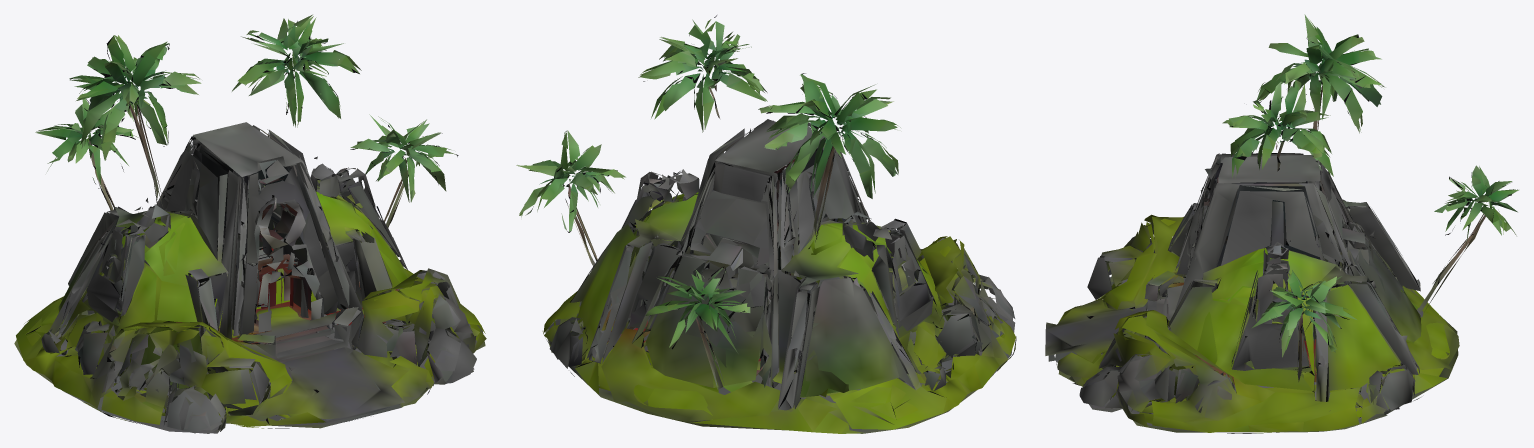
The model's file is pillio-observatory.lo.glb.
3 renders of one model, left to right at view 1: azimuth 30°, elevation 25°; view 2: azimuth 150°, elevation 25°; view 3: azimuth 270°, elevation 25°, orthographic. The views are drawn at different scales.
Visible parts, largest first — view 1: low; view 2: low; view 3: low.
Boxes of the visible parts, x1=… form: low: x1=14, y1=14, x2=486, y2=433; low: x1=516, y1=15, x2=1016, y2=433; low: x1=1045, y1=14, x2=1518, y2=433.
Bounding box in the file's own units: 0.9687 × 0.6466 × 1.
1 material, 1 textured.
